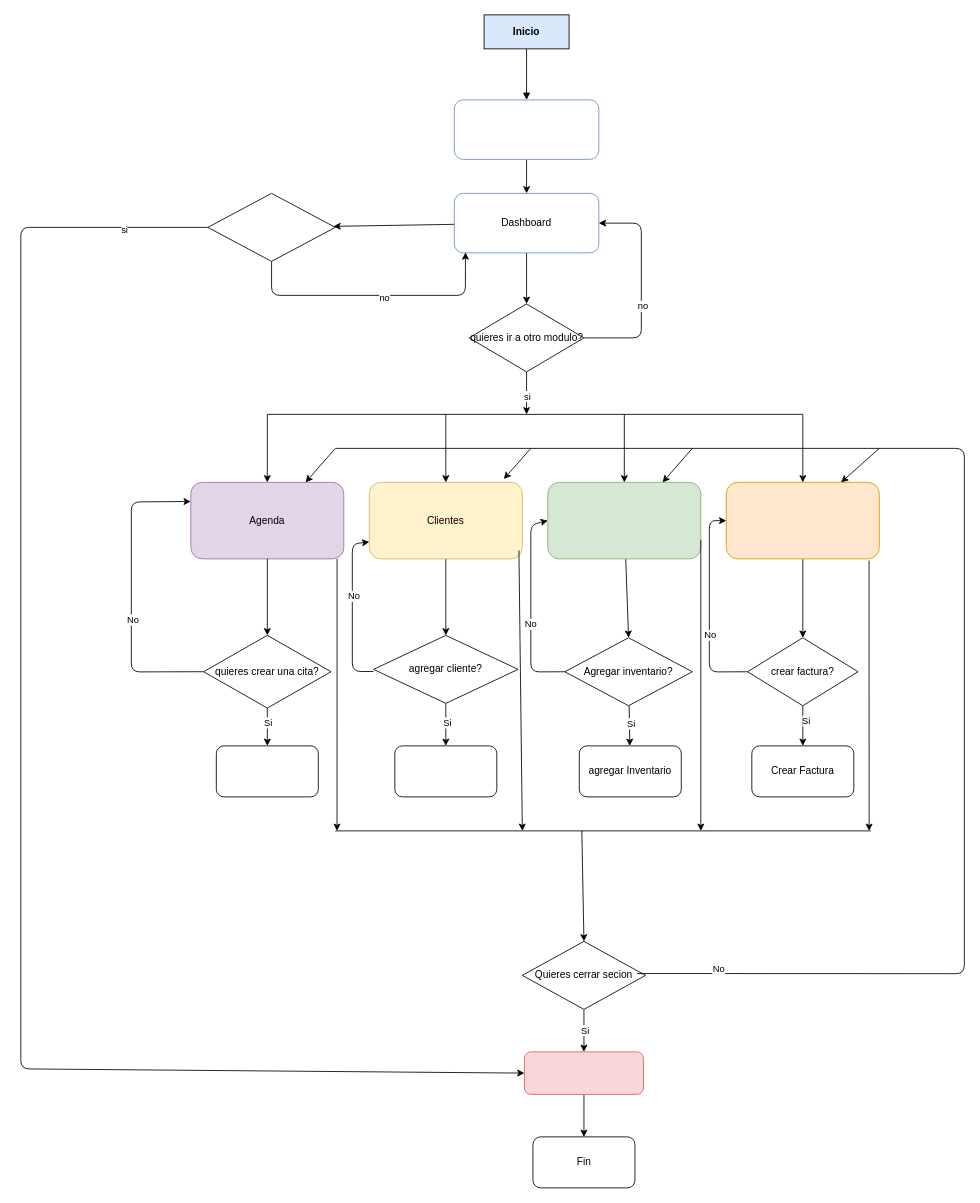
This 980x1203 diagram has some shape labels left out. The shapes that lost their labels are listed below. From the top down, each one's box as (x1, y1, x2, y2) in pixels, then its label:
(453, 99, 599, 159): Login
(207, 193, 335, 261): Quieres cerrar secion?
(547, 482, 701, 559): Inventario
(725, 482, 879, 559): Facturación
(215, 745, 318, 797): Crear cita
(394, 745, 497, 797): Agregar Cliente
(524, 1051, 643, 1094): Cerrar sesión
